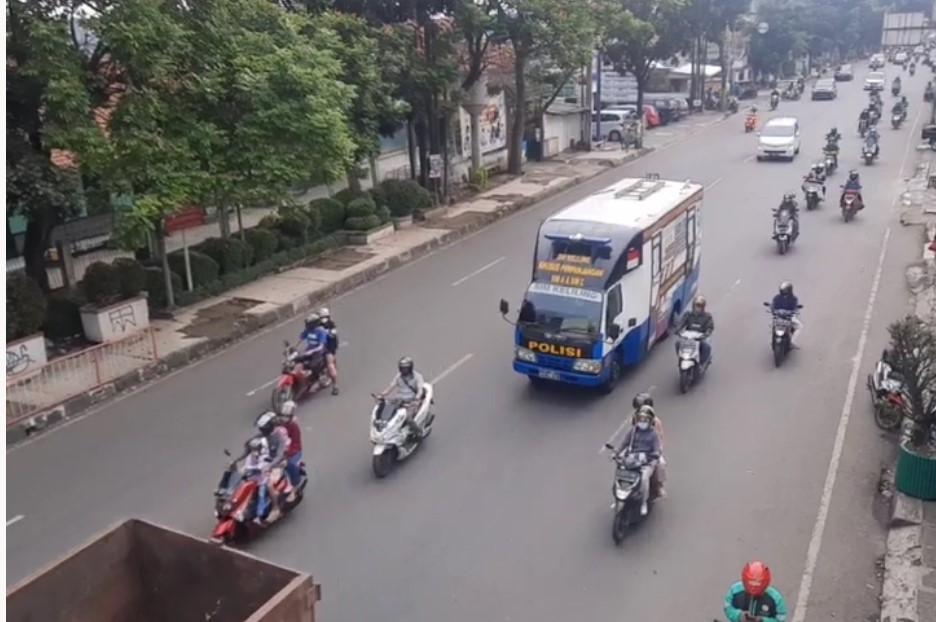motor: (202, 404, 316, 544), (600, 392, 680, 545), (366, 354, 440, 484), (262, 306, 343, 411), (670, 297, 719, 396), (759, 280, 809, 367), (764, 184, 800, 252), (834, 169, 866, 223), (800, 163, 825, 213)
